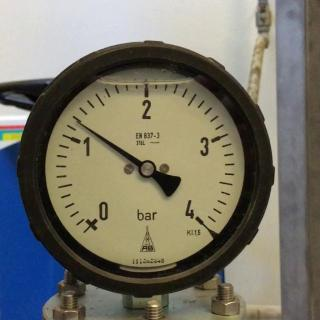gauge: (12, 27, 276, 313), (78, 204, 110, 236), (182, 204, 212, 232), (137, 159, 157, 179), (72, 116, 84, 128)
